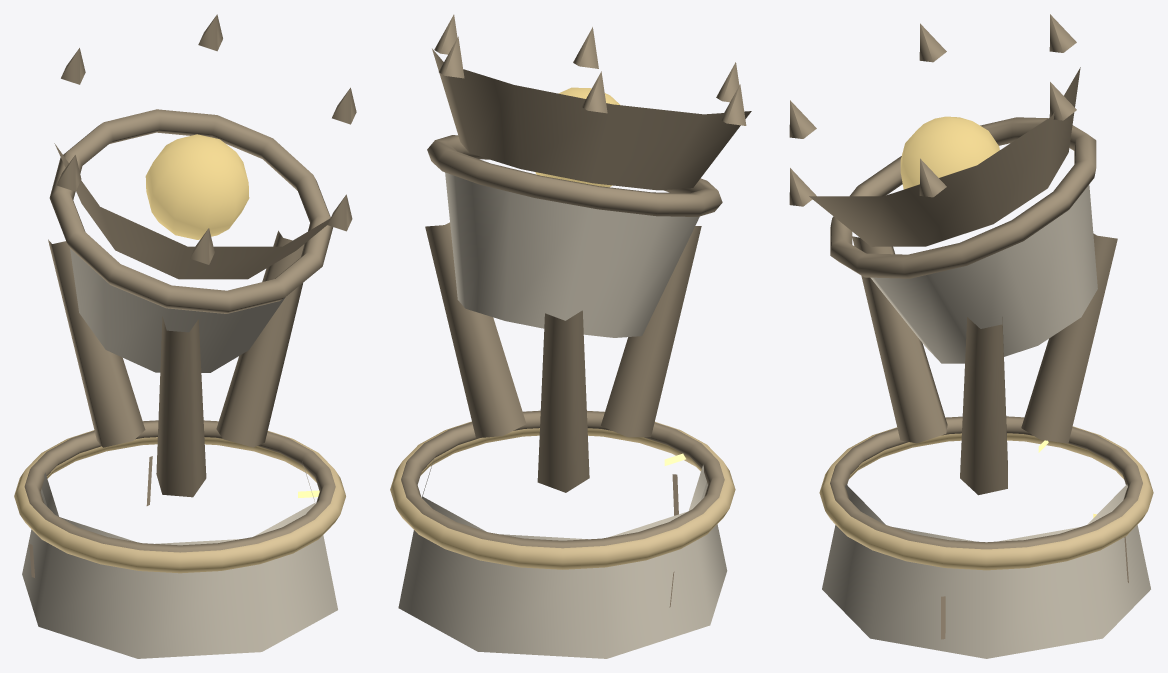
The model's file is tower_mortar_1.glb.
The picture shows the model from 3 angles, left to right: view 1: azimuth 30°, elevation 25°; view 2: azimuth 150°, elevation 25°; view 3: azimuth 270°, elevation 25°; orthographic projection. The views are drawn at different scales.
Parts seen in each view (by area): view 1: turret, base; view 2: turret, base; view 3: turret, base.
Part boxes in pixels (x1,y1,x2,y2): turret: (48, 14, 356, 497); base: (14, 420, 345, 658); turret: (425, 14, 751, 492); base: (390, 410, 735, 658); turret: (789, 14, 1117, 495); base: (819, 416, 1153, 658).
Bounding box in the file's own units: 2.88 × 4.93 × 3.08.
